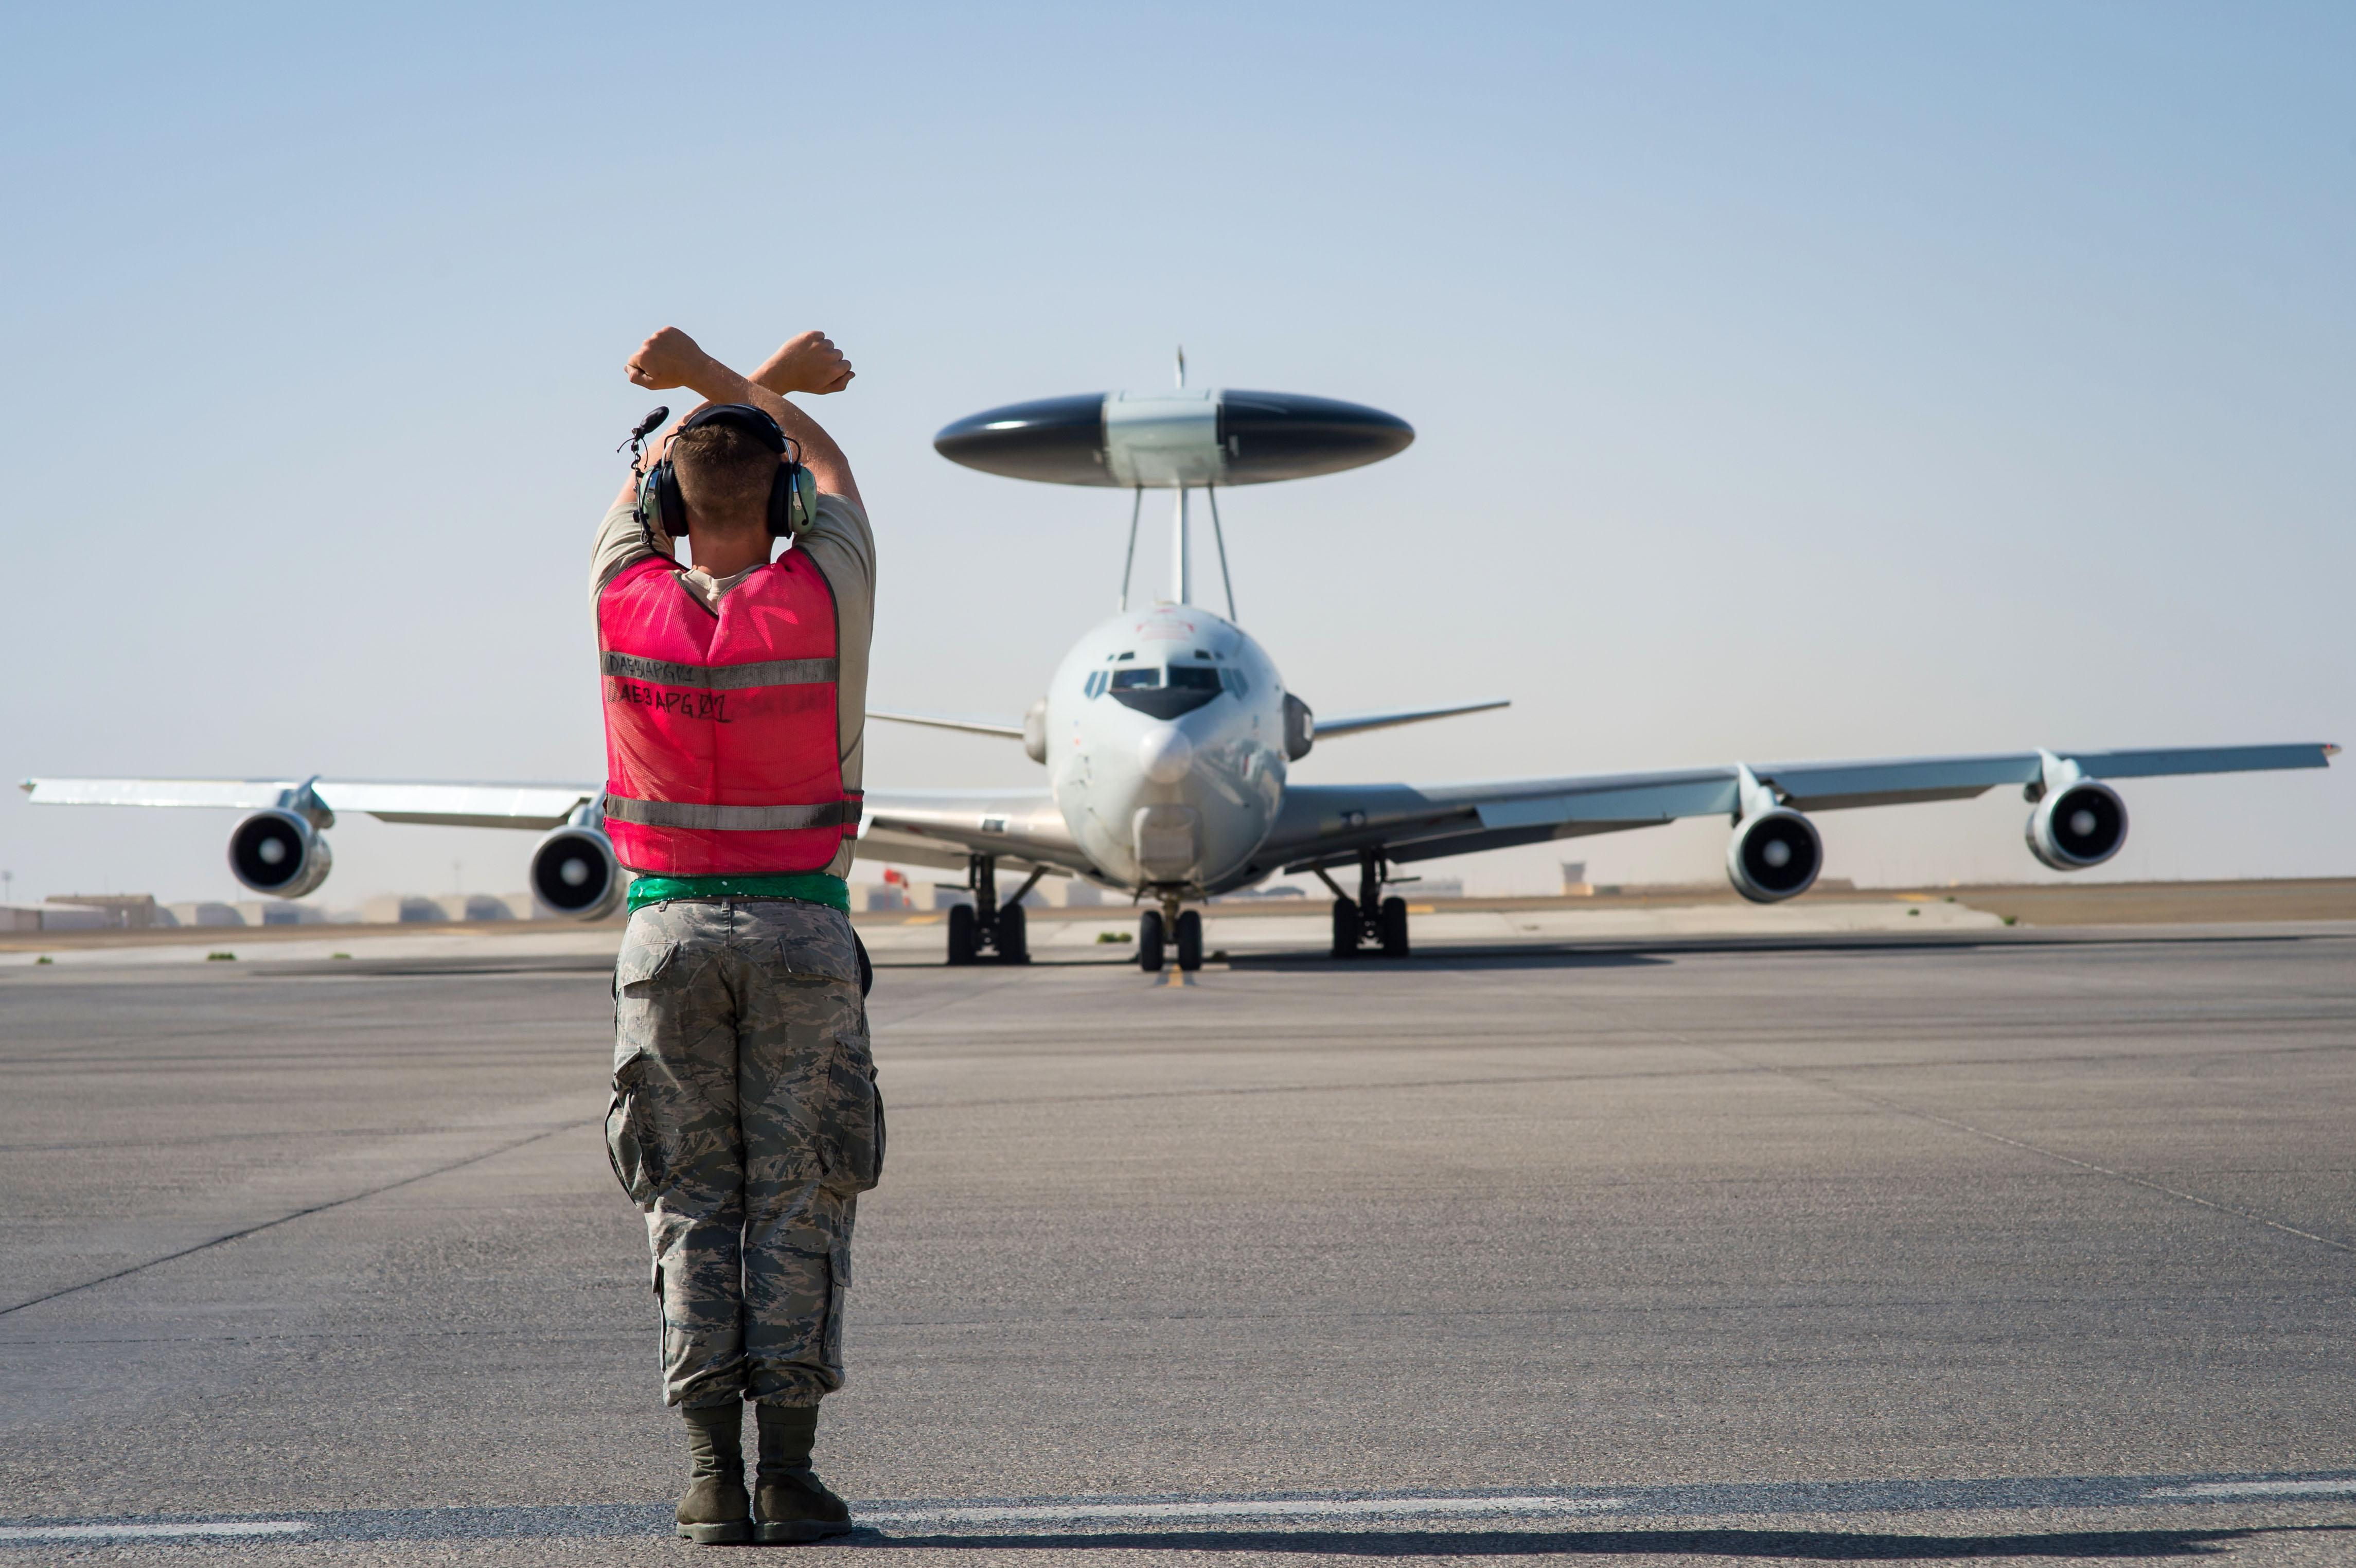vest: (578, 532, 879, 900)
